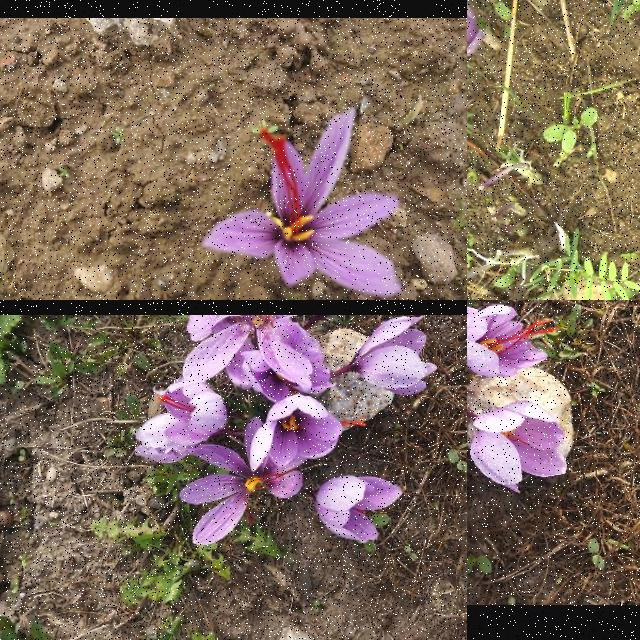flower: (201, 109, 403, 298), (180, 418, 302, 546), (250, 394, 366, 474), (470, 402, 566, 492), (350, 316, 438, 396), (467, 303, 555, 376), (314, 476, 404, 544)
overlap: (134, 315, 338, 463)
